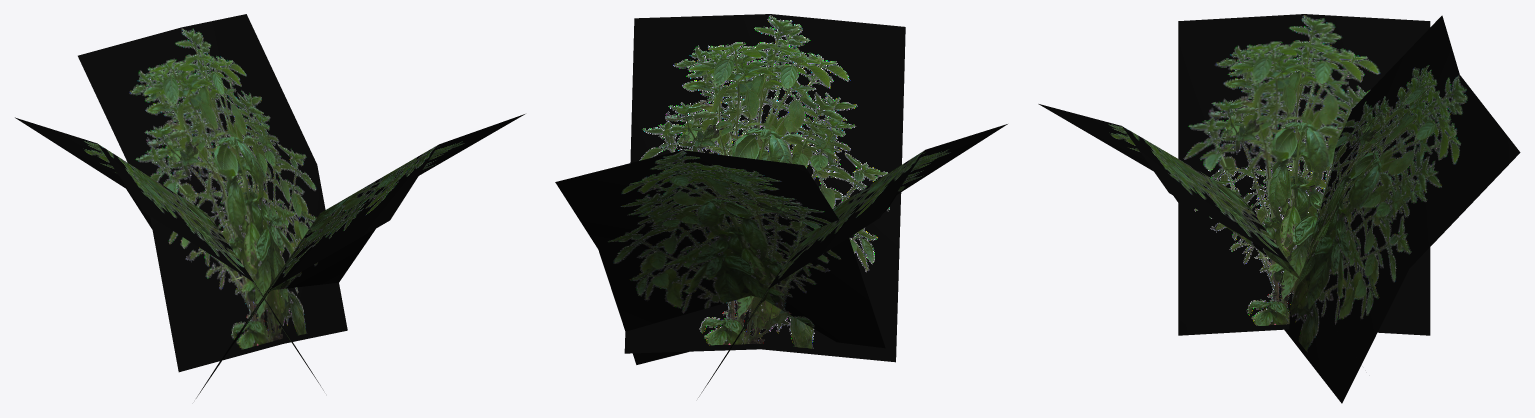
The model's file is Bush.glb.
3 views of the same model, side by side, from view 1: azimuth 30°, elevation 25°; view 2: azimuth 150°, elevation 25°; view 3: azimuth 270°, elevation 25° (orthographic). The views are drawn at different scales.
Parts seen in each view (by area): view 1: plant; view 2: plant; view 3: plant.
Part boxes in pixels (bbox=[...]): plant: bbox=[15, 14, 524, 398]; plant: bbox=[555, 14, 1007, 397]; plant: bbox=[1038, 14, 1520, 403].
Bounding box in the file's own units: 3.39 × 2.49 × 3.83.
1 material, 1 textured.
